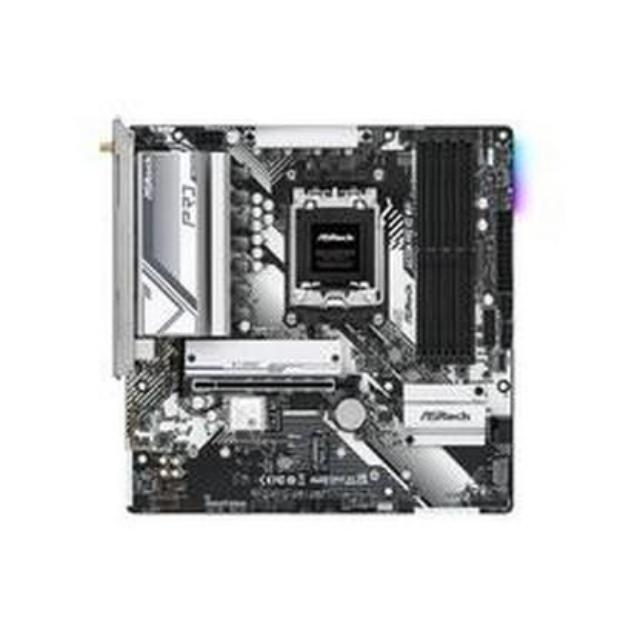Mainboard: (102, 109, 528, 534)
